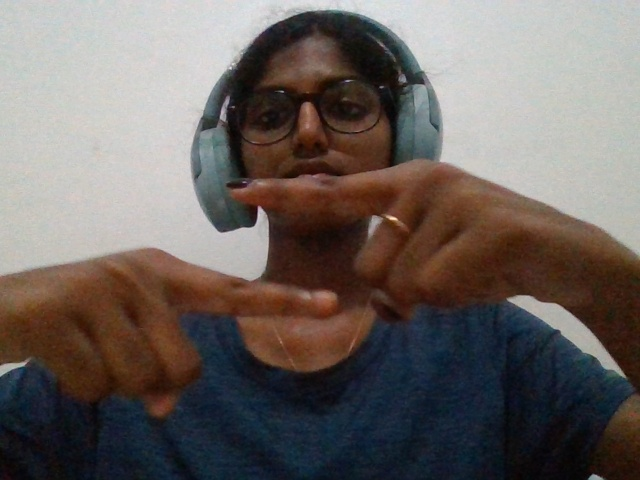Sign: (12, 138, 618, 458)
